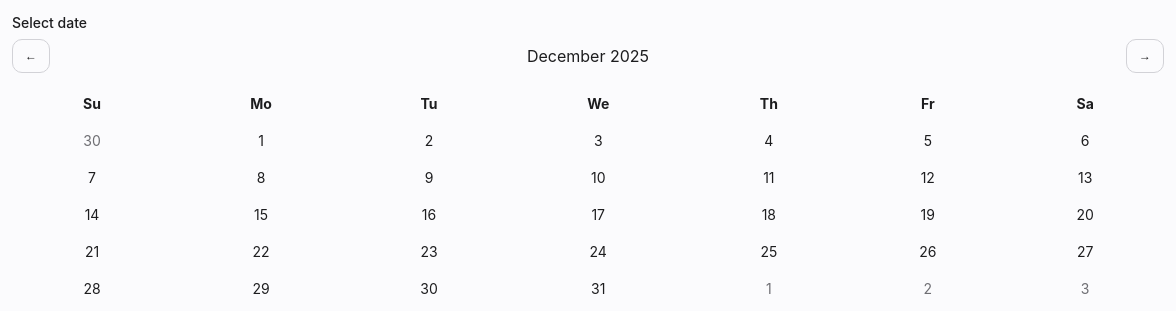
Test: DatePicker › navigates between months
Expected: the text "December 2025" is shown, top-left (527, 44), bottom-right (649, 68)
Click the button named "Next".
click(1145, 56)  # box top-left (1126, 39), bottom-right (1164, 73)
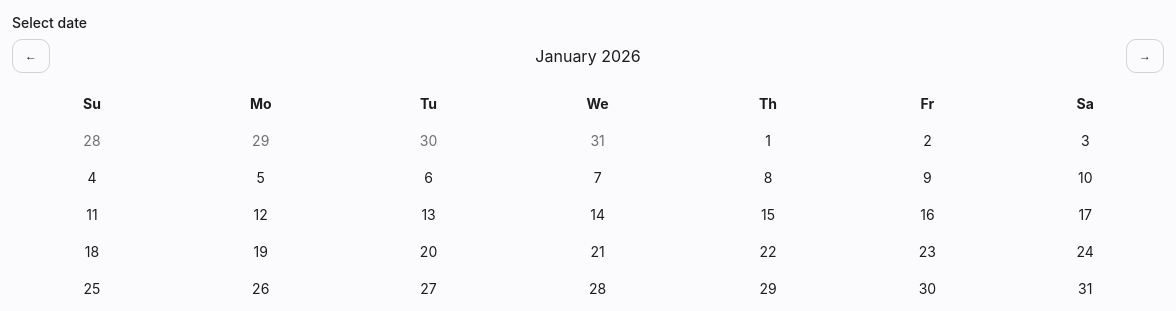
Expected: the text "January 2026" is shown, top-left (535, 44), bottom-right (641, 68)
Click the button named "Prev".
click(31, 56)  # box top-left (12, 39), bottom-right (50, 73)
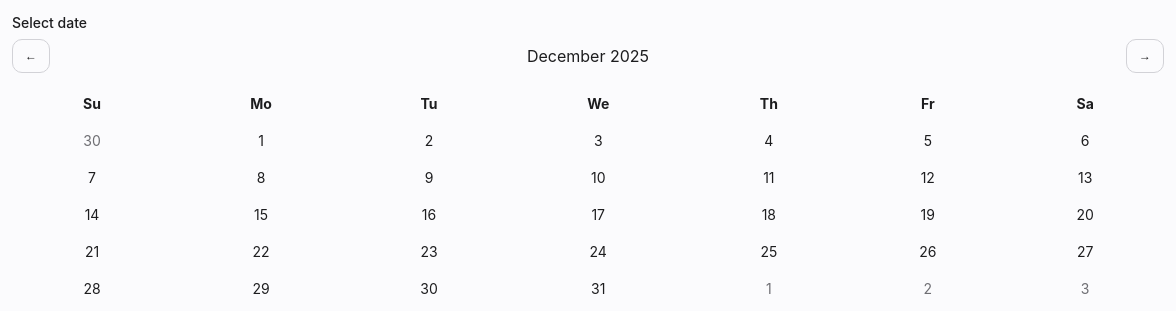
Expected: the text "December 2025" is shown, top-left (527, 44), bottom-right (649, 68)
